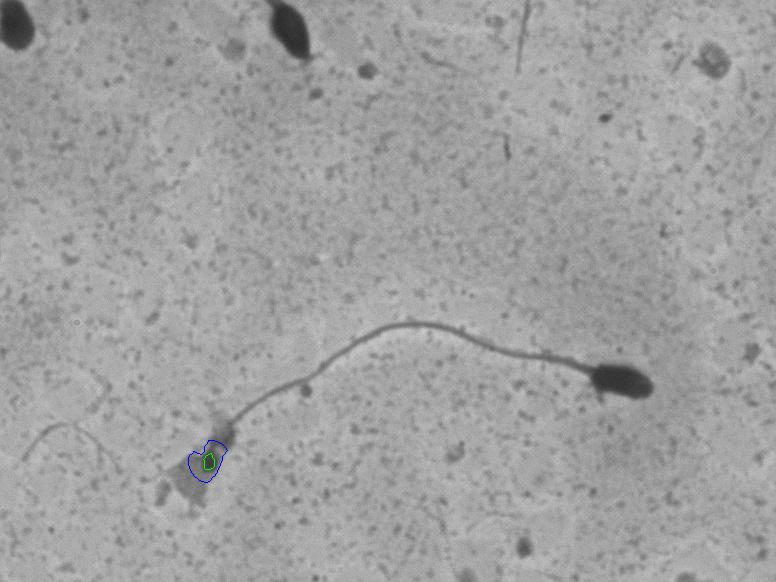Abnormal: (222, 281, 717, 487)
